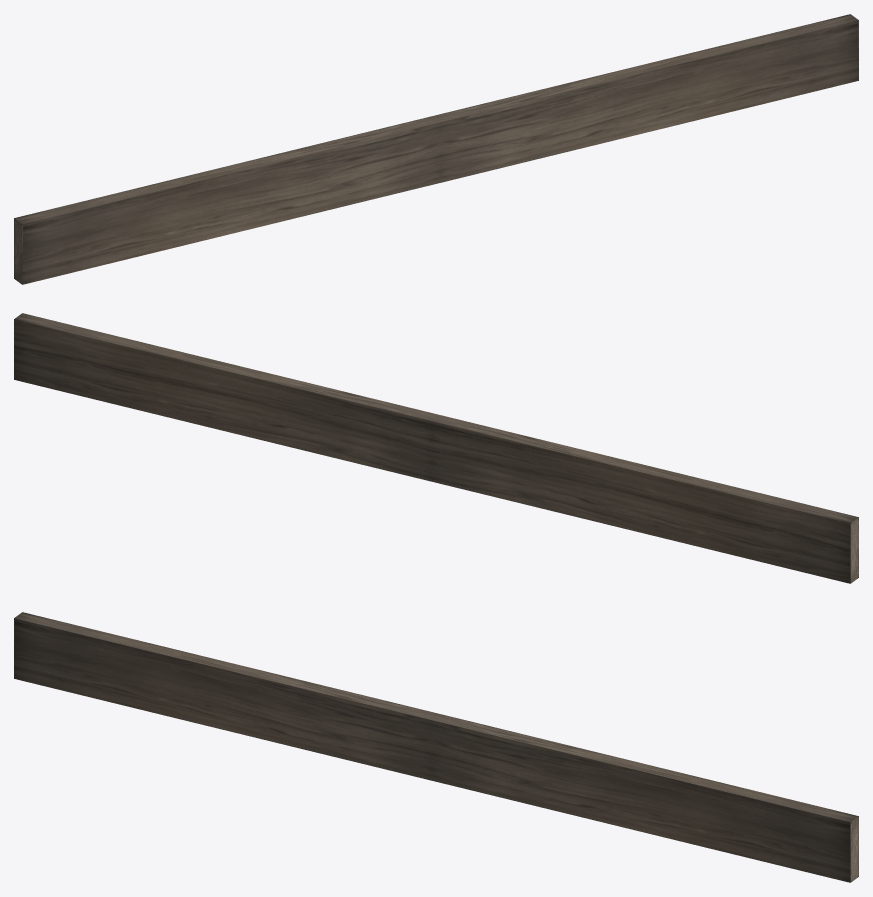
Rendered from Pillar_Beam_C.fbx.
The picture shows the model from 3 angles, top to bottom: view 1: azimuth 30°, elevation 25°; view 2: azimuth 150°, elevation 25°; view 3: azimuth 330°, elevation 25°; orthographic projection.
Parts seen in each view (by area): view 1: Pillar_Beam_C; view 2: Pillar_Beam_C; view 3: Pillar_Beam_C.
Boxes of the visible parts, box(x1,y1,x2,y2) form: Pillar_Beam_C: box(14, 14, 858, 284); Pillar_Beam_C: box(14, 313, 858, 583); Pillar_Beam_C: box(14, 612, 858, 882).
Size of the model in its own units: 9.79 by 0.6773 by 0.1709.
